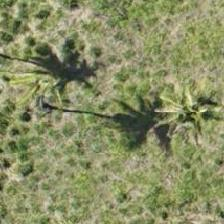coconut_tree: (1, 28, 91, 118), (142, 74, 223, 164)
